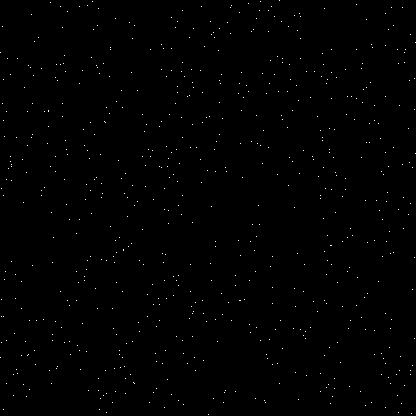Others: (41, 79, 415, 377)
